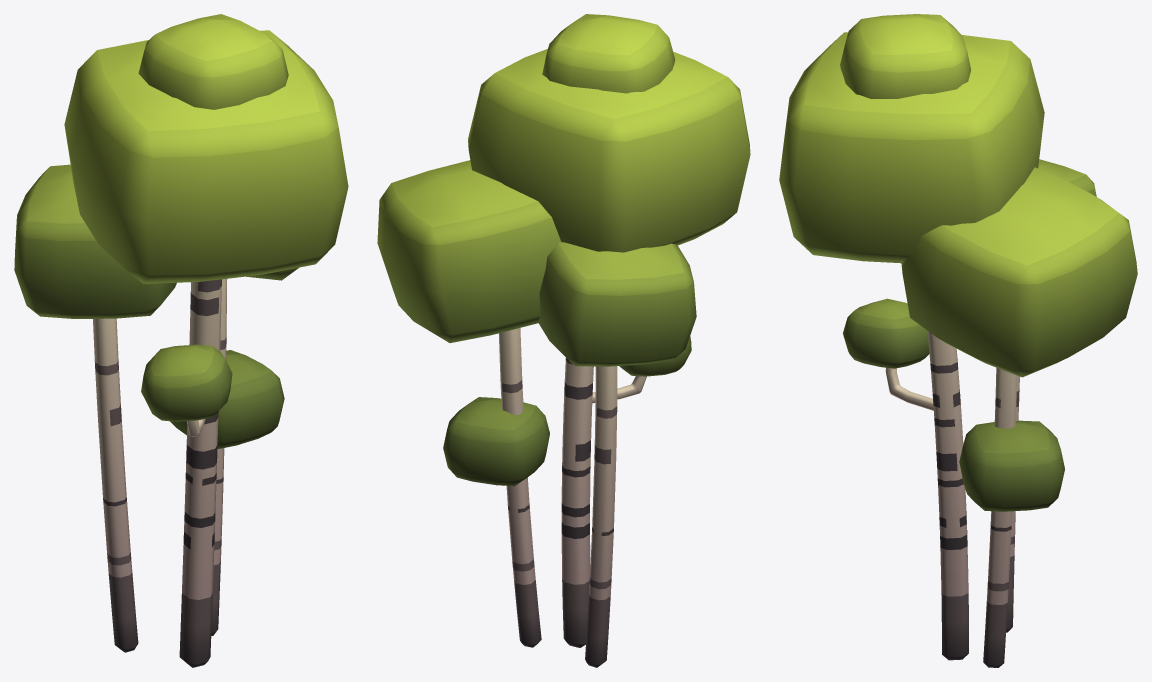
The model's file is birch_tree_col1_05.fbx.
3 views of the same model, side by side, from view 1: azimuth 30°, elevation 25°; view 2: azimuth 150°, elevation 25°; view 3: azimuth 270°, elevation 25° (orthographic). The views are drawn at different scales.
Visible parts, largest first — view 1: birch_tree_SC_col1_05; view 2: birch_tree_SC_col1_05; view 3: birch_tree_SC_col1_05.
Part boxes in pixels (<box>): birch_tree_SC_col1_05: <box>14,14,348,667</box>; birch_tree_SC_col1_05: <box>377,14,750,667</box>; birch_tree_SC_col1_05: <box>779,14,1137,667</box>.
Bounding box in the file's own units: 423 × 810 × 419.
